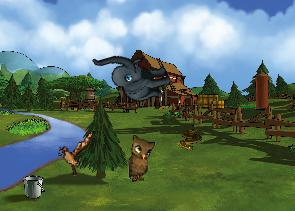eagle: (55, 127, 95, 177)
elephant: (92, 39, 174, 112)
owl: (127, 134, 157, 182)
